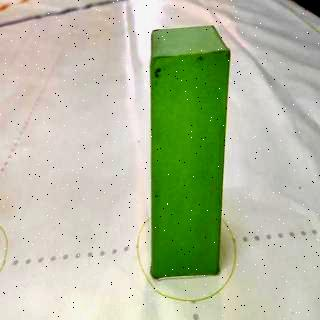greenbox: (150, 25, 230, 278)
